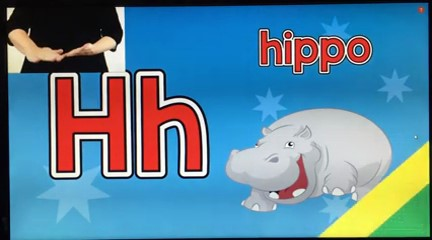H: (27, 37, 95, 69)
